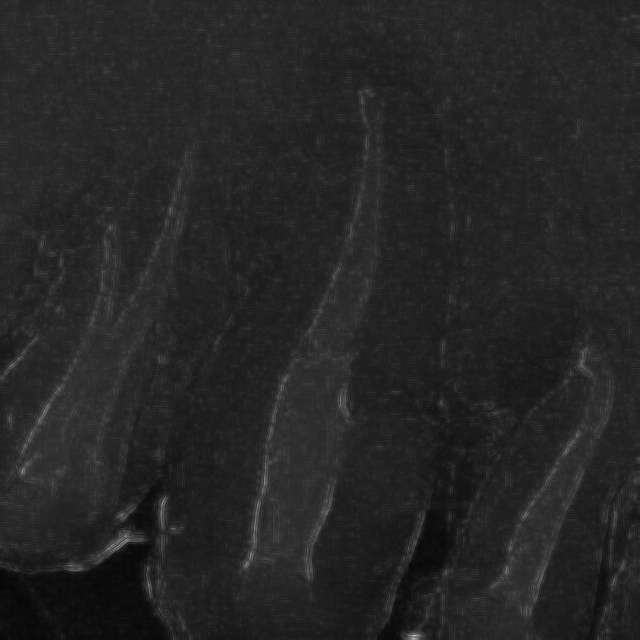Class 0- No endodontic treatment: (155, 30, 470, 640), (1, 72, 234, 577), (446, 292, 640, 640)
